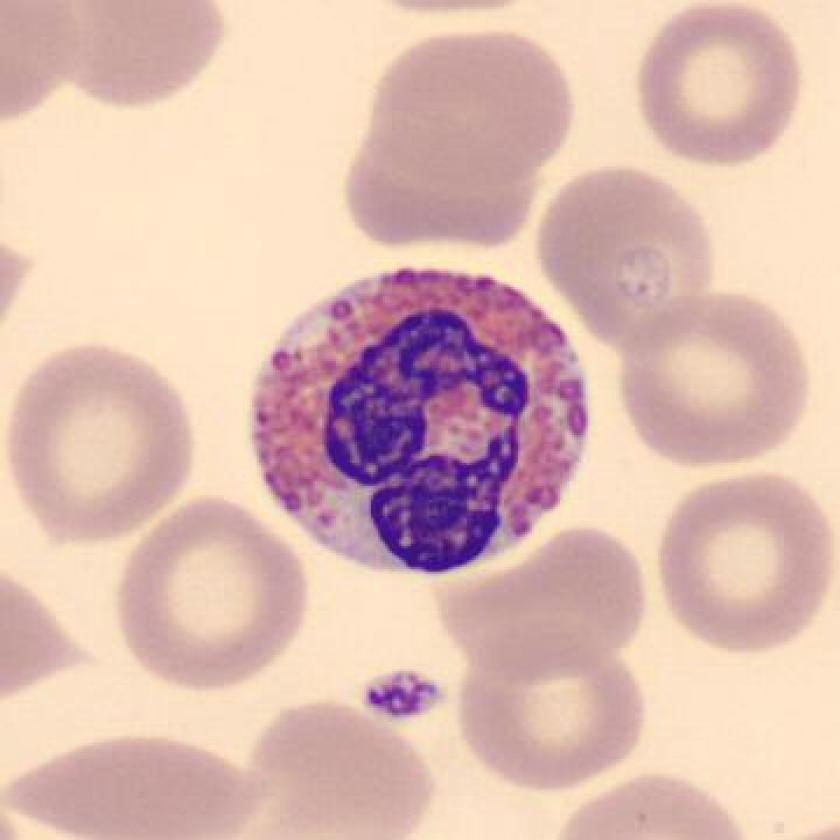eosinophil: (234, 251, 608, 596)
